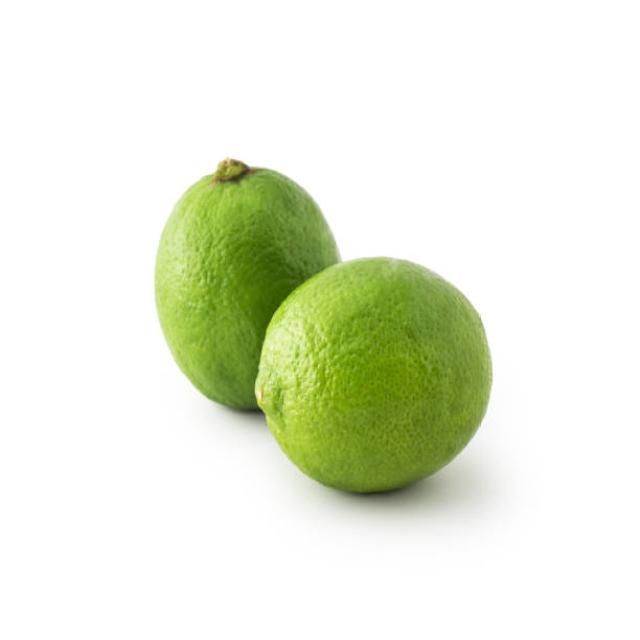Unripe: (254, 255, 493, 494)
